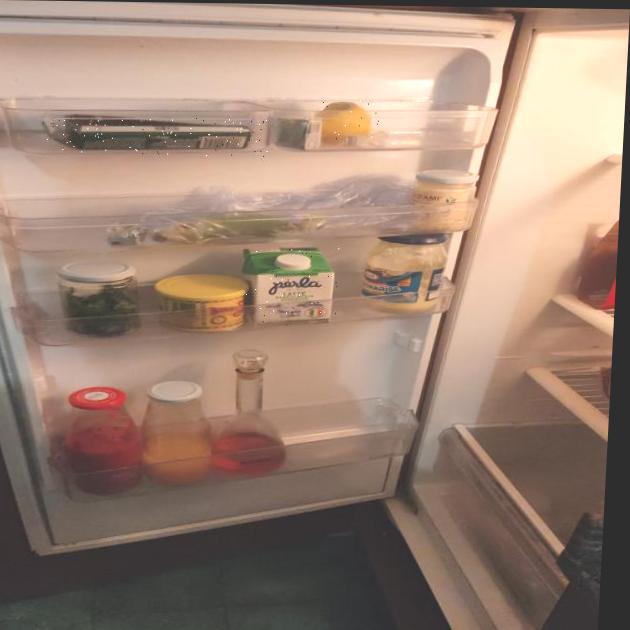butter: (40, 116, 272, 157)
lemon: (319, 100, 383, 147)
milk: (239, 247, 341, 326)
